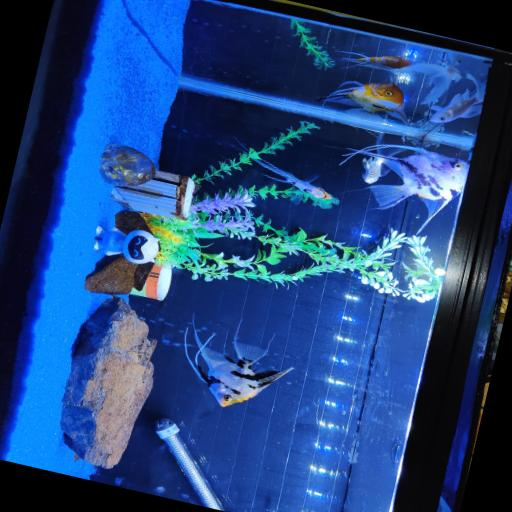Fish: (344, 145, 467, 233), (183, 320, 292, 406), (318, 81, 407, 123), (252, 159, 331, 200), (391, 63, 461, 104), (429, 74, 484, 123), (332, 51, 410, 70), (362, 157, 389, 184), (444, 51, 461, 66)
